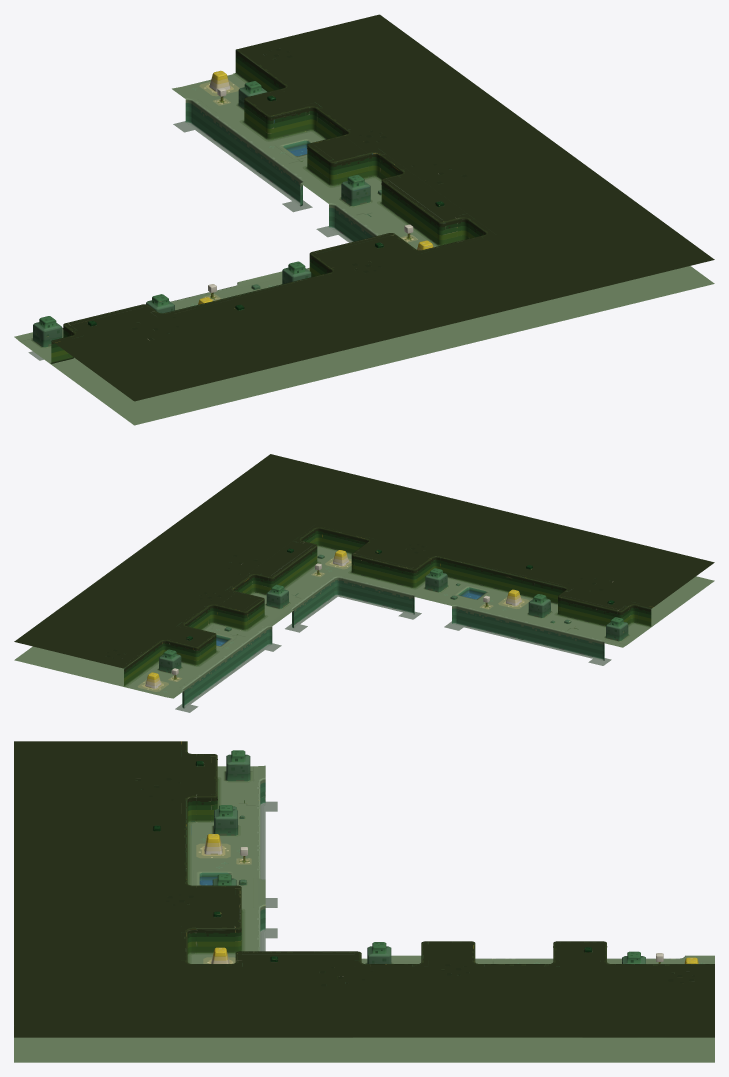
File: C_cave2_out_LU.fbx
3 views of the same model, one above another, from view 1: azimuth 30°, elevation 25°; view 2: azimuth 150°, elevation 25°; view 3: azimuth 270°, elevation 25° (orthographic). The views are drawn at different scales.
Parts seen in each view (by area): view 1: C_cave2_out_LU.001; view 2: C_cave2_out_LU.001; view 3: C_cave2_out_LU.001.
Boxes of the visible parts, x1,y1,x2,y2 form: C_cave2_out_LU.001: (14,14,714,425); C_cave2_out_LU.001: (14,454,714,712); C_cave2_out_LU.001: (14,741,714,1062).
Size of the model in its own units: 117 by 9.82 by 117.
1 material, 1 textured.
